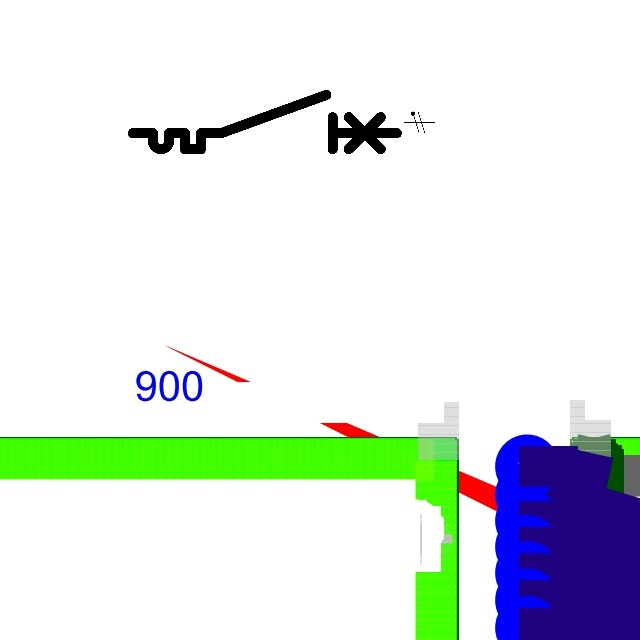interruptor_termomagnetico: (126, 88, 403, 156)
